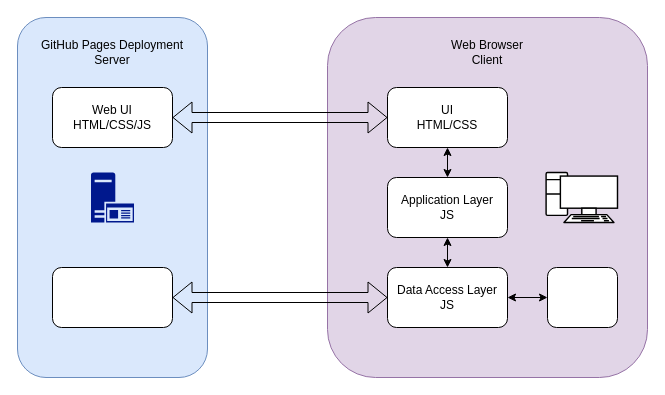
The diagram is 665 pixels wide and 395 high, and some of its shapes have lost their labels. The box of each missing label's shape, as (x1, y1, x2, y2) in pixels:
Browser Cache: (546, 266, 618, 328)
Data Services JSON: (52, 266, 172, 328)
